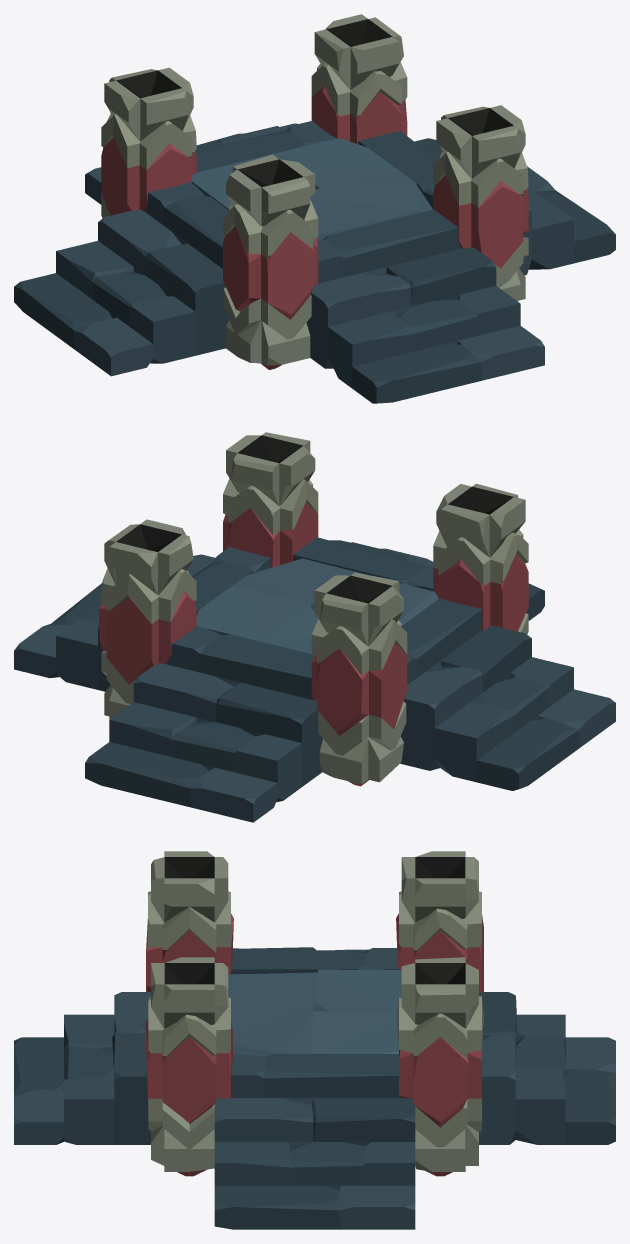
Rendered from level_element_platform_small_01.fbx.
3 renders of one model, top to bottom at view 1: azimuth 30°, elevation 25°; view 2: azimuth 150°, elevation 25°; view 3: azimuth 270°, elevation 25°, orthographic. The views are drawn at different scales.
Parts seen in each view (by area): view 1: level_element_platform_small_01; view 2: level_element_platform_small_01; view 3: level_element_platform_small_01.
Boxes of the visible parts, x1,y1,x2,y2 form: level_element_platform_small_01: (14,14,615,403); level_element_platform_small_01: (14,432,615,822); level_element_platform_small_01: (14,851,615,1229).
Bounding box in the file's own units: 600 × 221 × 600.
